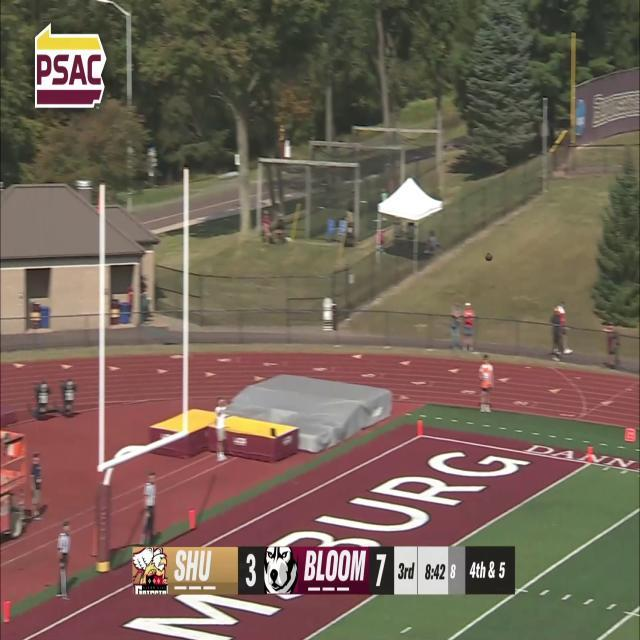football: (483, 250, 494, 264)
